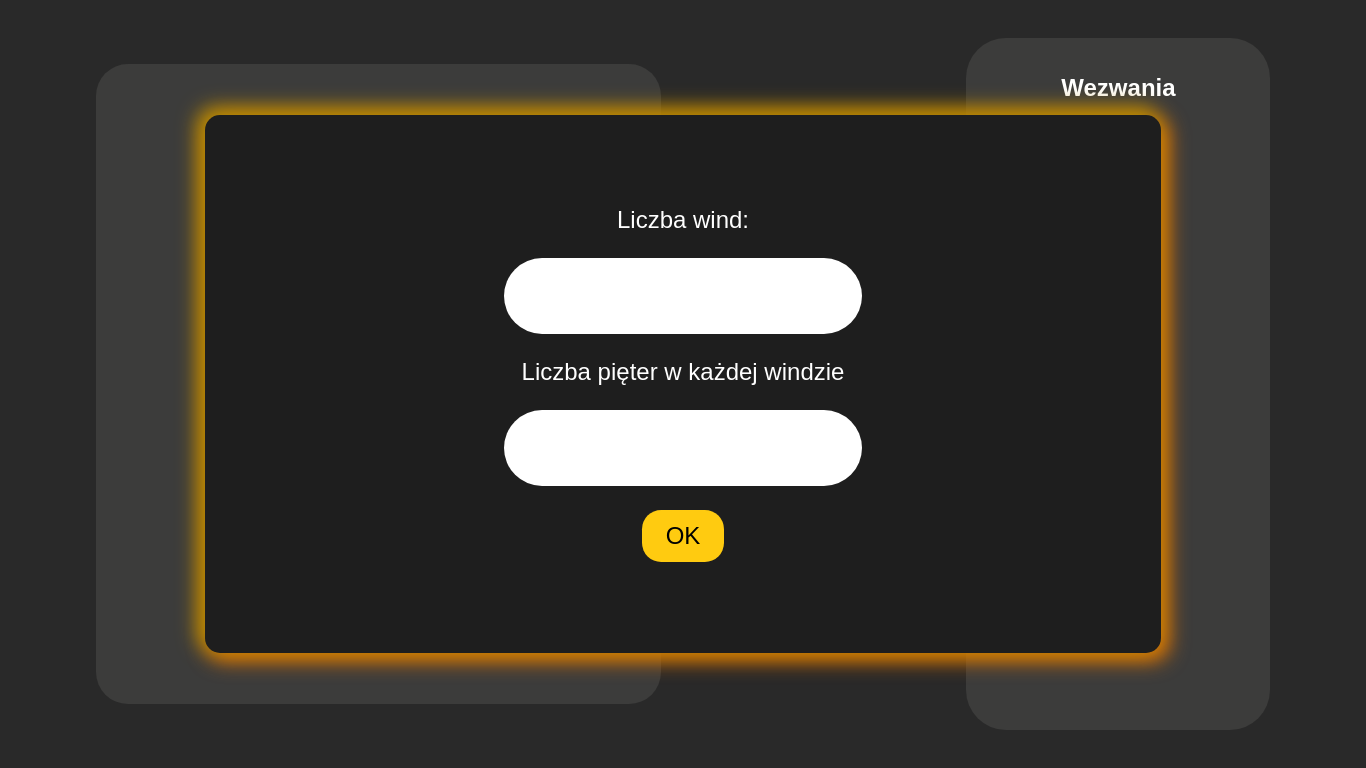
Test: Checks if requests disappear correctly › Checks if one request disappears
Type "5" into the 1st number field.
click(683, 296); type("5")  # box [504,258,862,334]
Type "6" into the number field with id "floorNoInput".
click(683, 448); type("6")  # box [504,410,862,486]
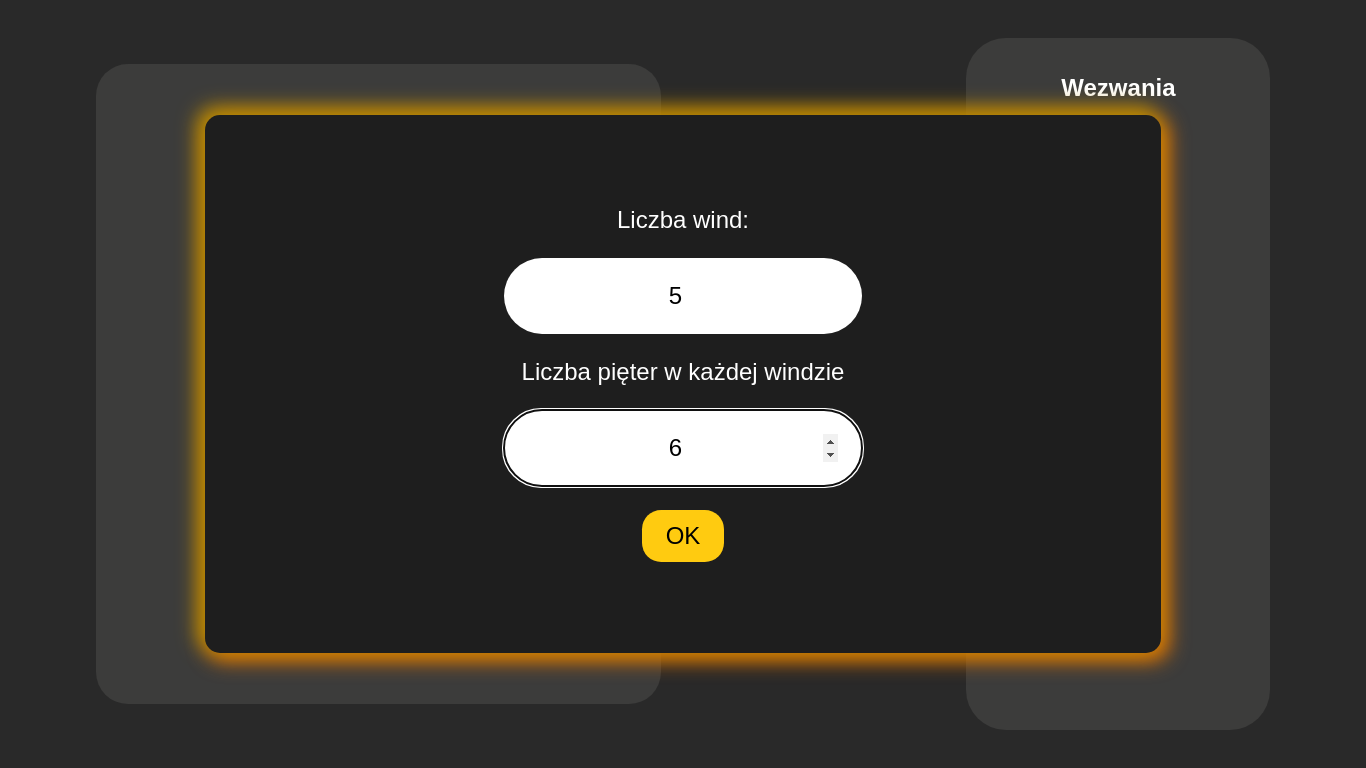
Submit the form, box [504,206,862,562]
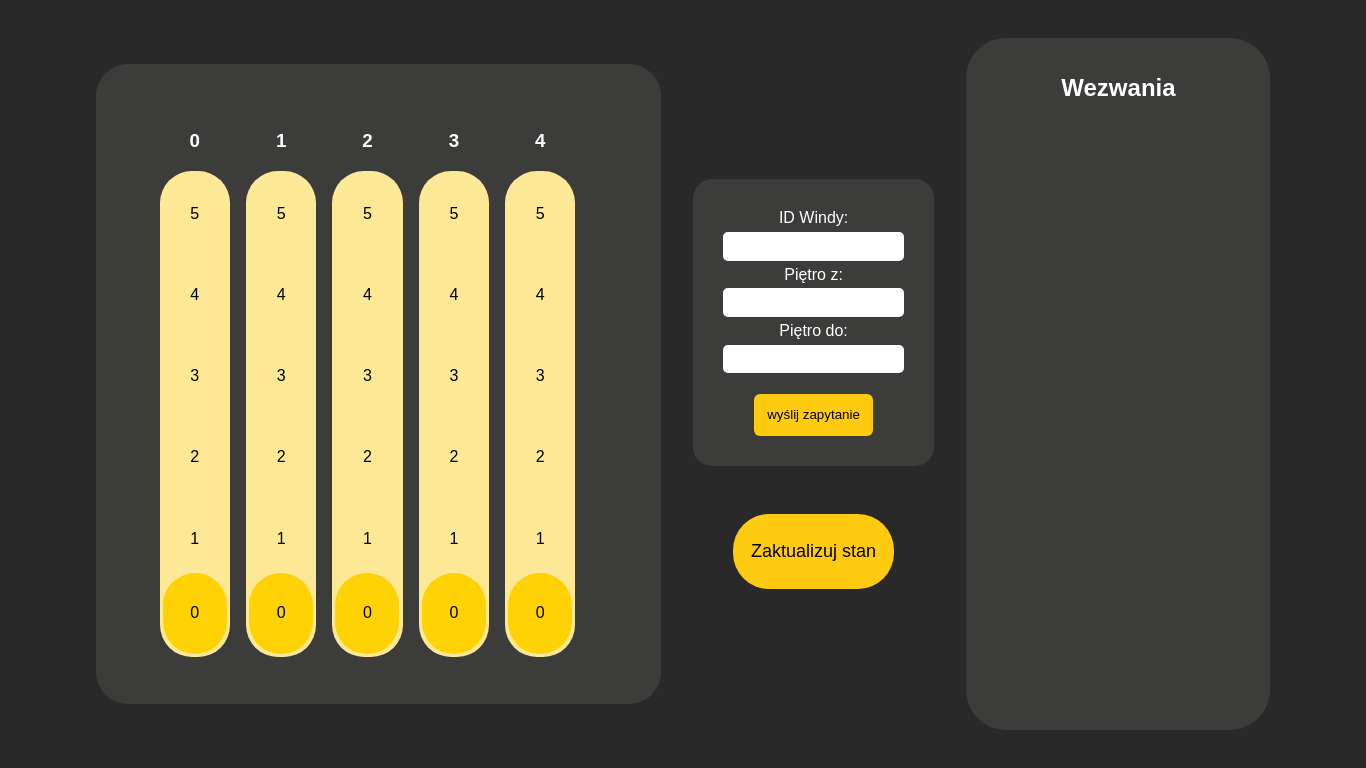
Type "1" into the 1st number field.
click(814, 247); type("1")  # box [723,232,904,261]
Type "0" into the number field with id "floorFrom".
click(814, 303); type("0")  # box [723,288,904,317]
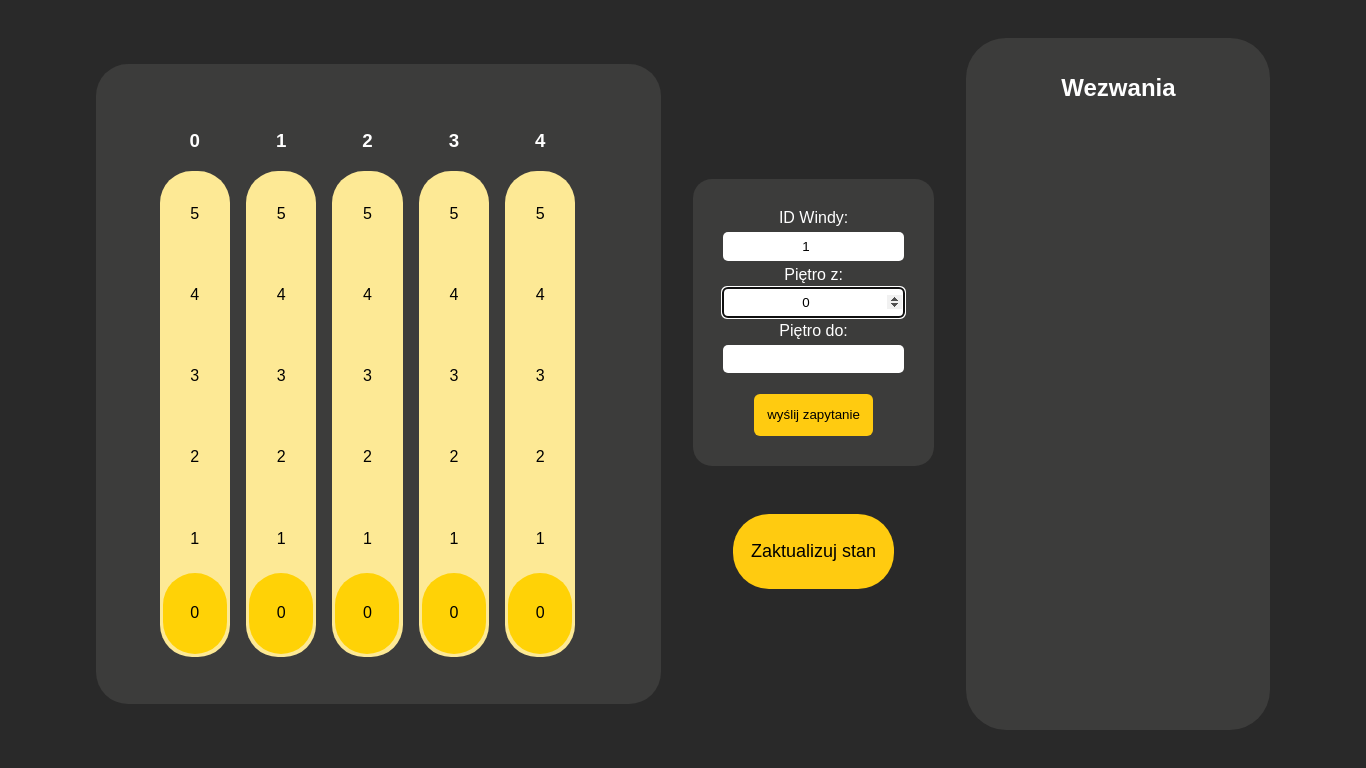
Type "3" into the number field with id "floorTo".
click(814, 360); type("3")  # box [723,345,904,374]
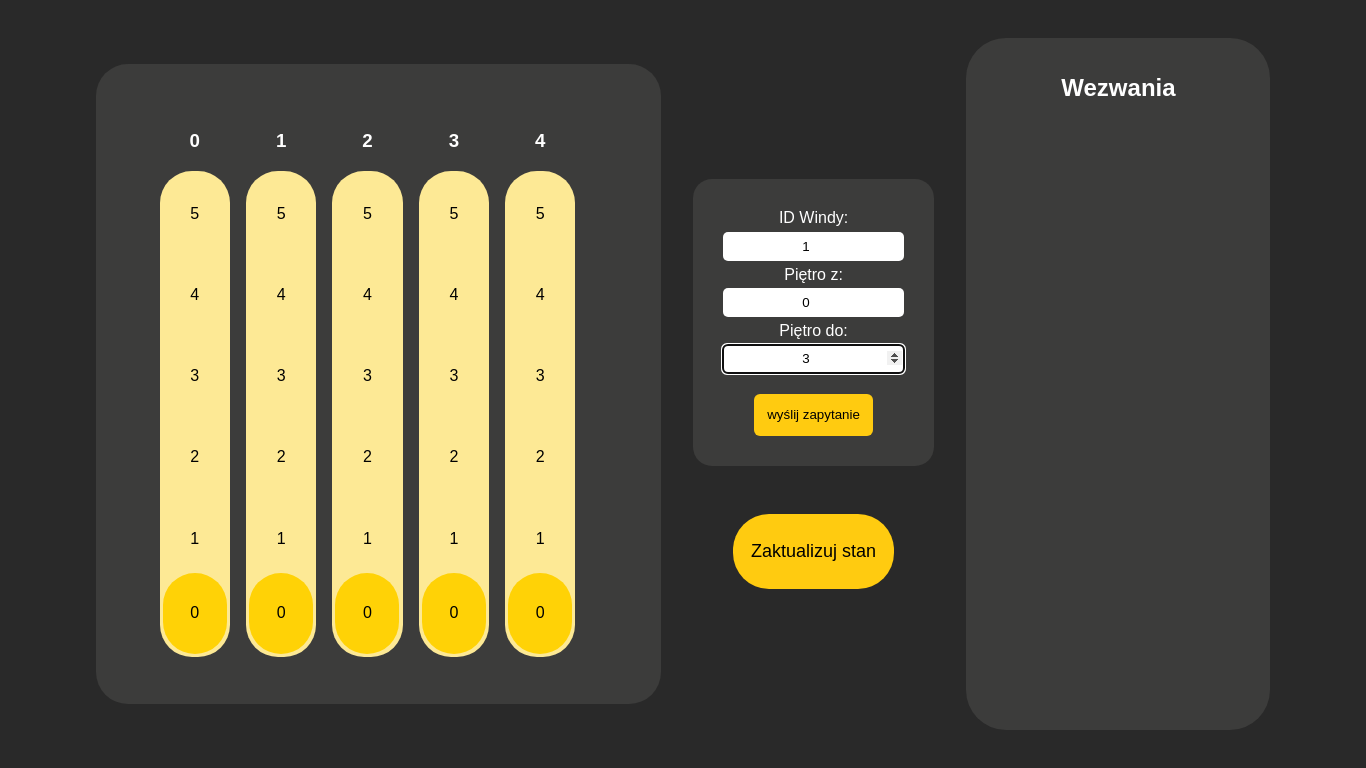
Submit the form, box [717,203,911,442]
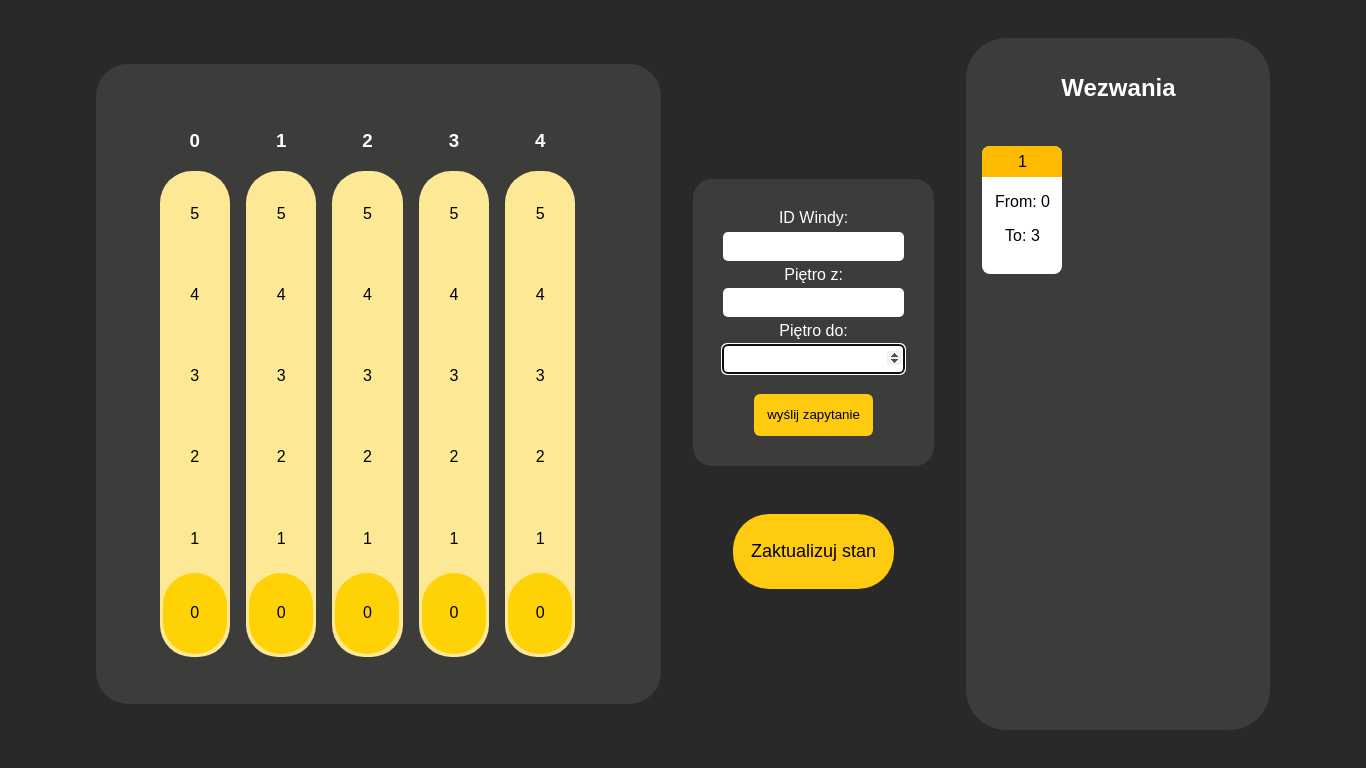
Click the button with class "submitButton".
click(814, 552)  # box [733,514,894,589]
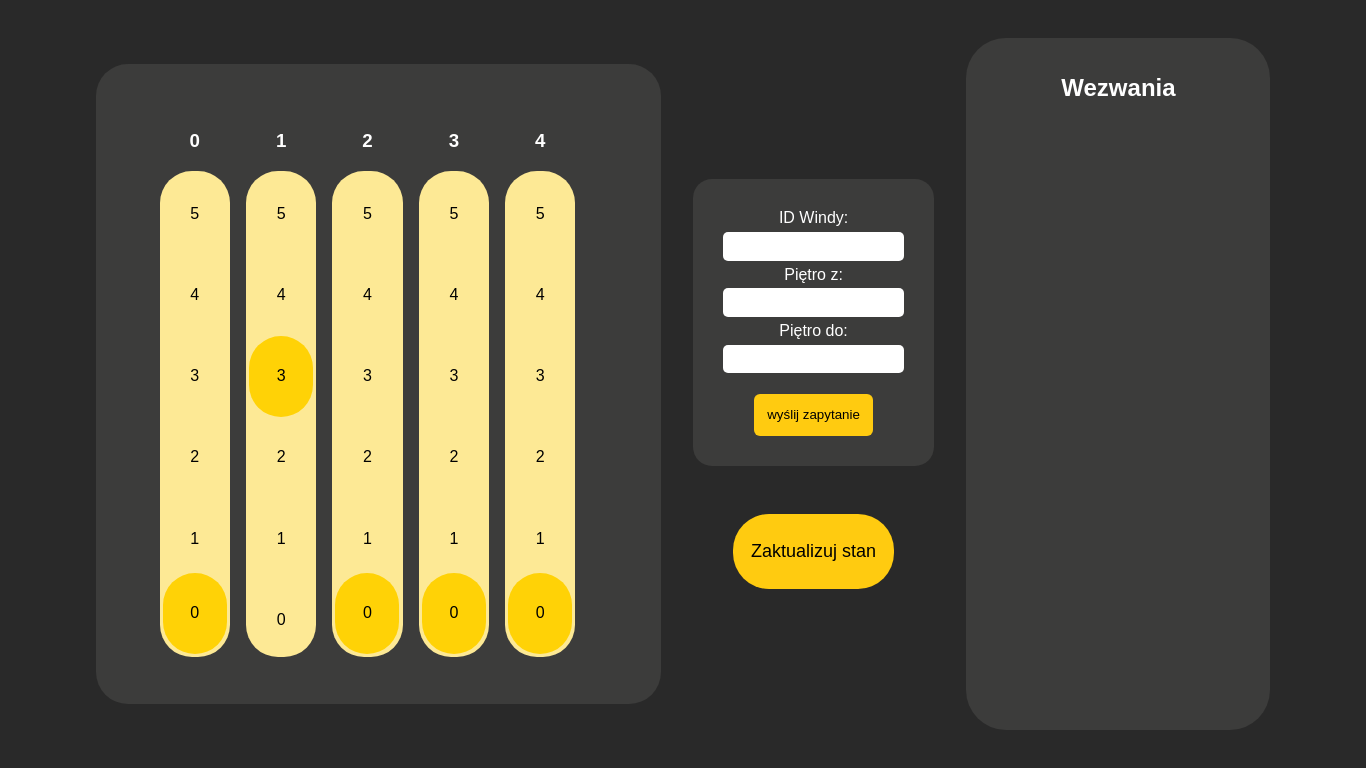
expect the element with class "requestBox" is gone: met
